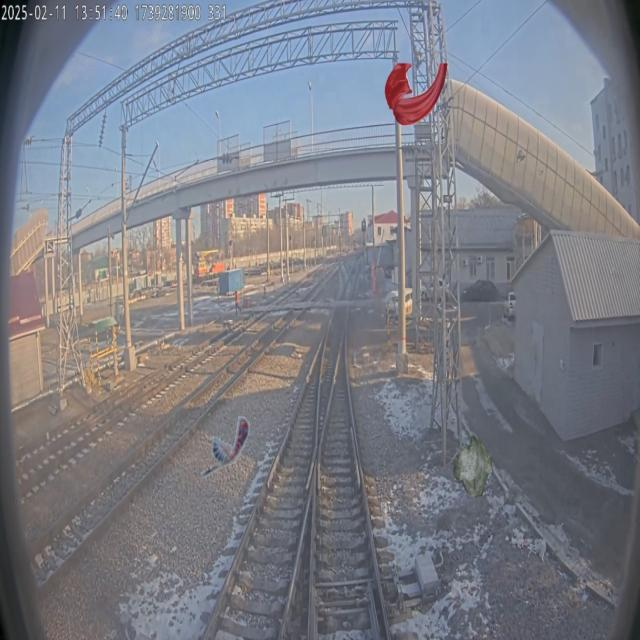floating object: (385, 61, 448, 126), (198, 415, 251, 479)
plastic bag: (452, 434, 493, 498)
